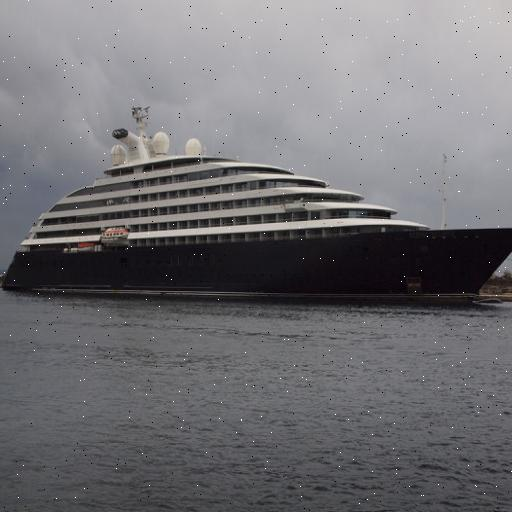cruises: (1, 87, 512, 312)
